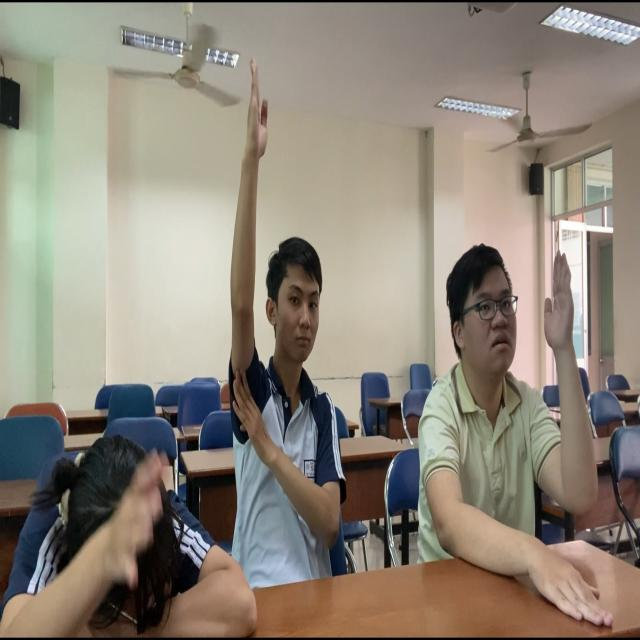raise_hand: (420, 242, 602, 636), (229, 55, 348, 613)
sleep: (3, 435, 257, 634)
